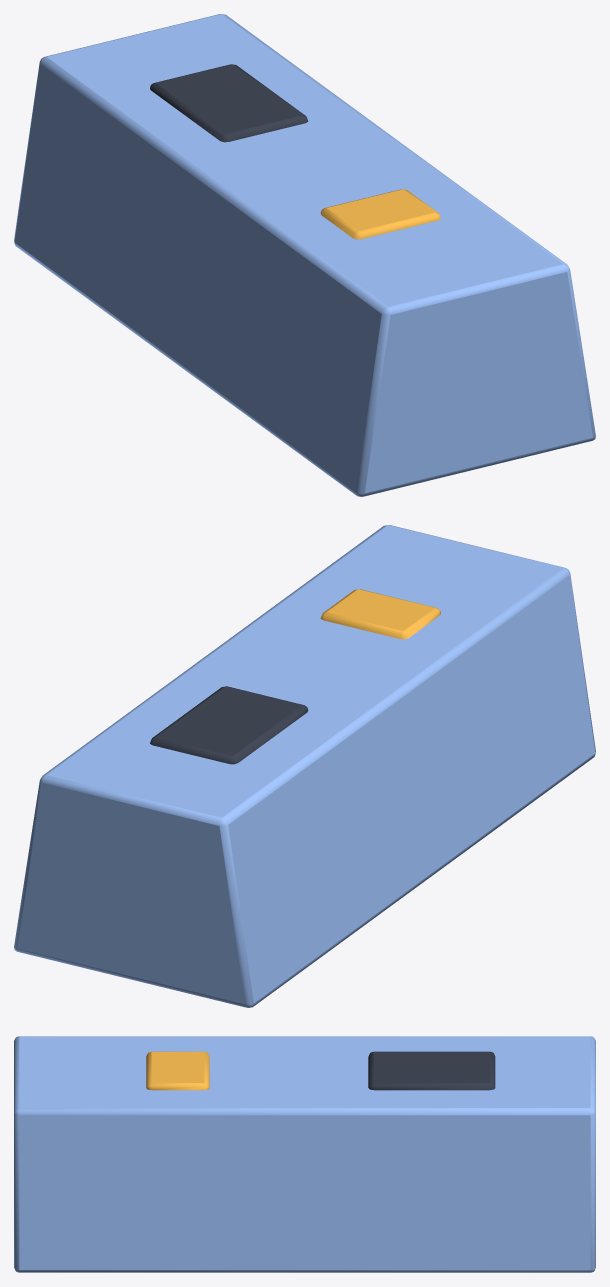
File: ware_supraleiter.fbx
The picture shows the model from 3 angles, top to bottom: view 1: azimuth 30°, elevation 25°; view 2: azimuth 150°, elevation 25°; view 3: azimuth 270°, elevation 25°; orthographic projection. The views are drawn at different scales.
Parts seen in each view (by area): view 1: ware_supraleiter_Koerper; view 2: ware_supraleiter_Koerper; view 3: ware_supraleiter_Koerper.
Part boxes in pixels (x1,y1,x2,y2): ware_supraleiter_Koerper: (14,14,595,496); ware_supraleiter_Koerper: (14,525,595,1007); ware_supraleiter_Koerper: (14,1036,595,1272).
Bounding box in the file's own units: 0.2185 × 0.165 × 0.55.
